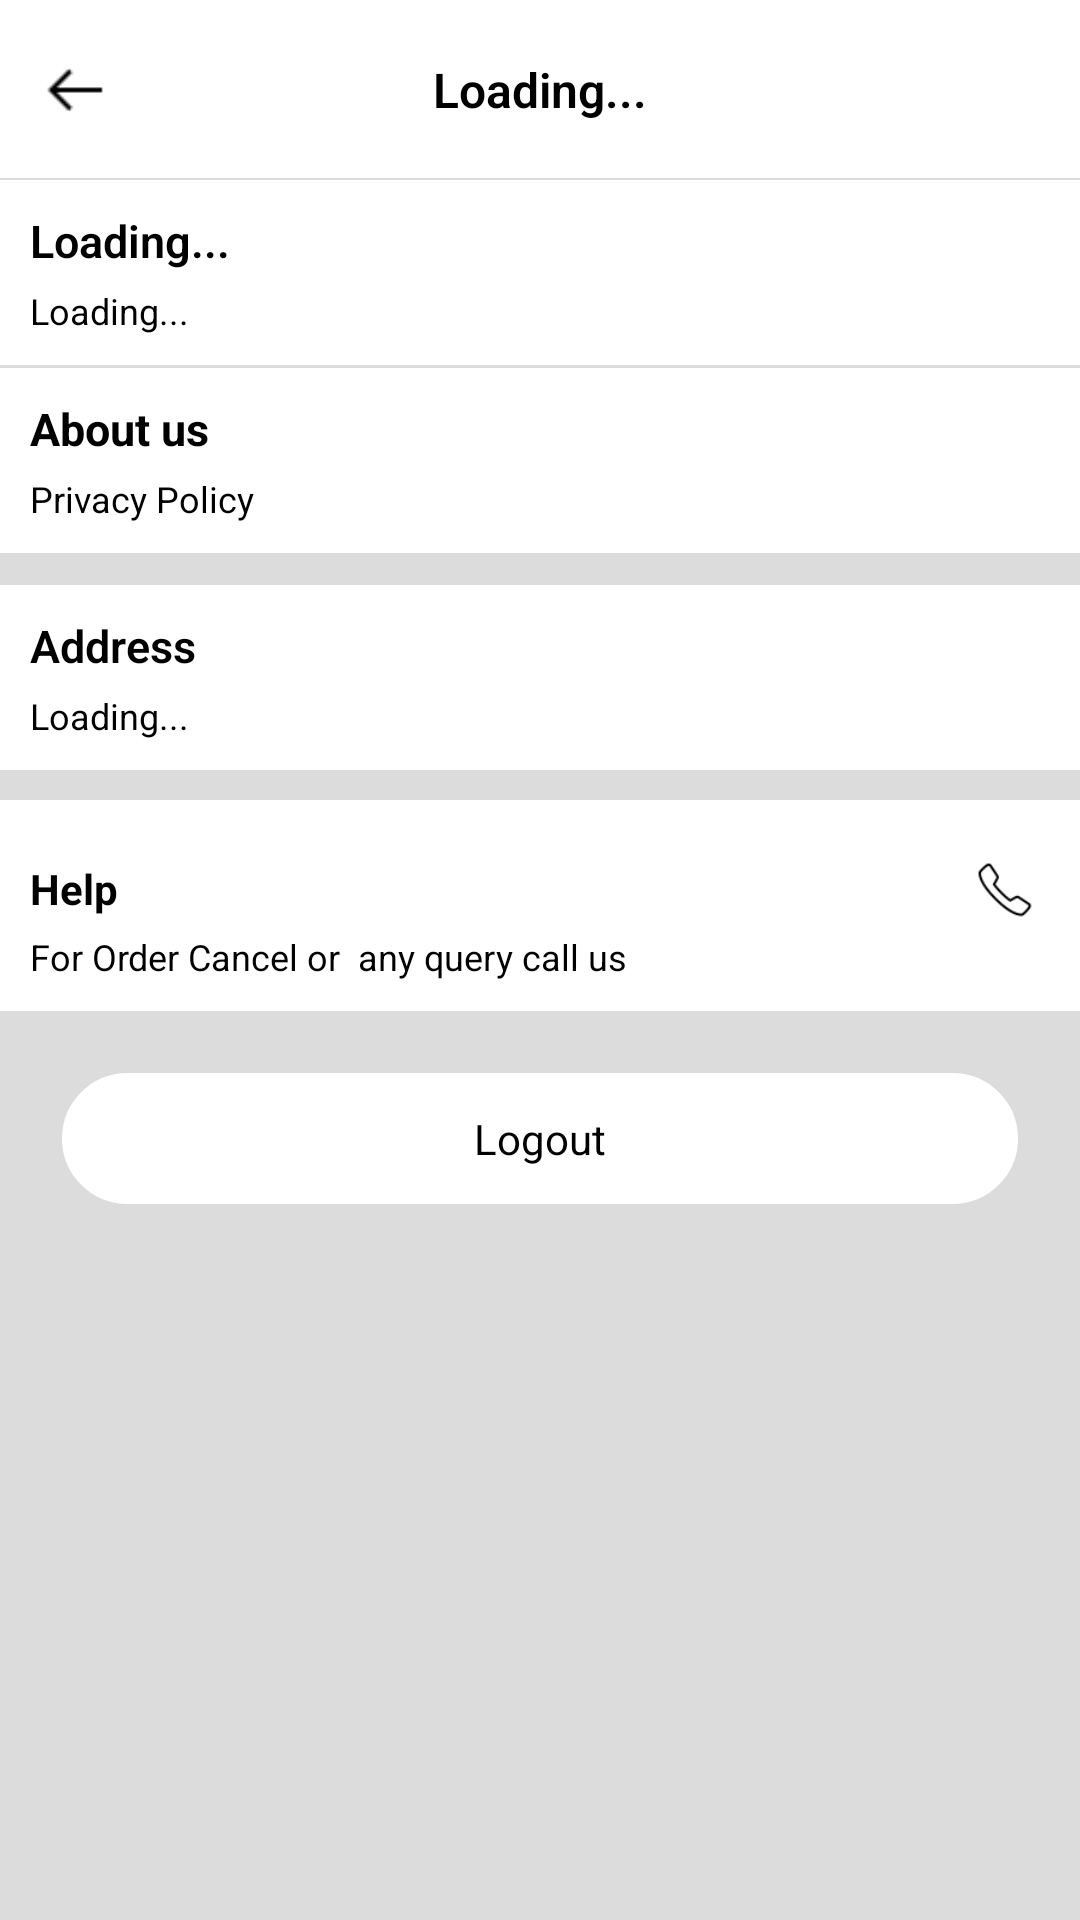

Icons on this 1080x1920 Android screen, each with the point to tap as point (x, y):
left arrow: point (75, 90)
phone call: point (1005, 890)
